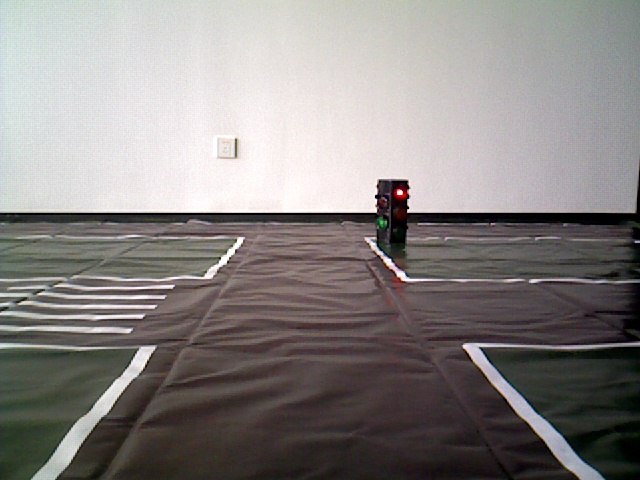red: (374, 181, 406, 247)
